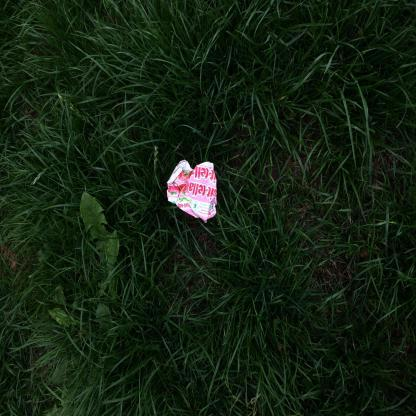diger: (168, 161, 219, 223)
